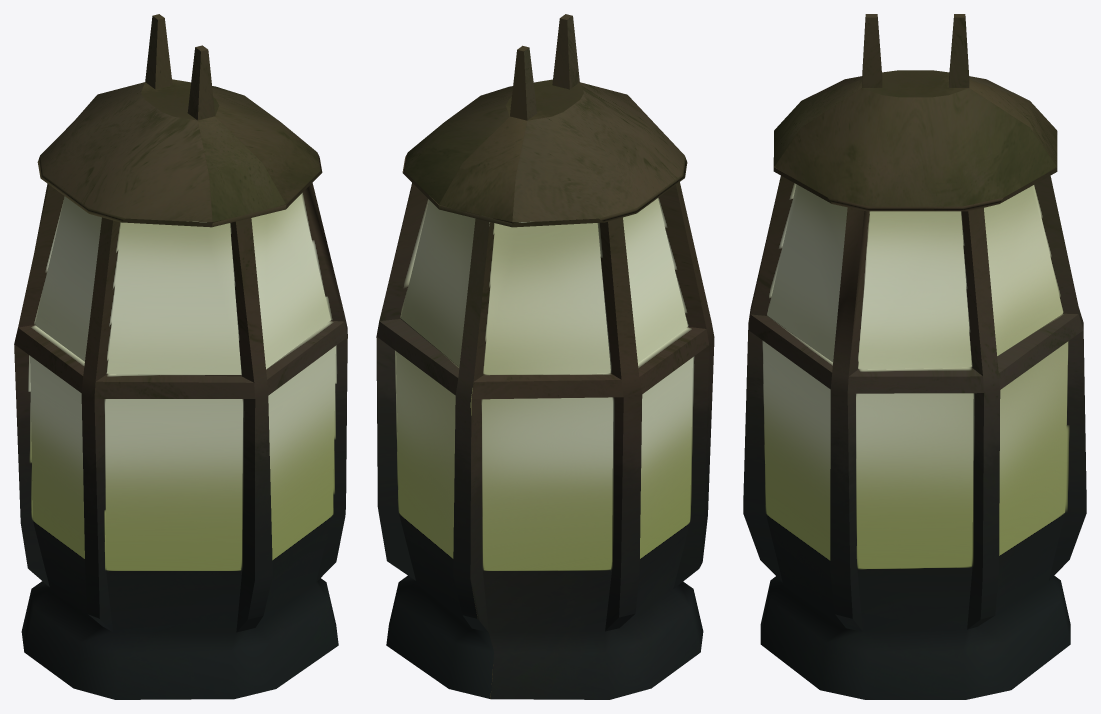
The model's file is ContainerMaya.fbx.
3 views of the same model, side by side, from view 1: azimuth 30°, elevation 25°; view 2: azimuth 150°, elevation 25°; view 3: azimuth 270°, elevation 25° (orthographic). The views are drawn at different scales.
Visible parts, largest first — view 1: pCylinder1; view 2: pCylinder1; view 3: pCylinder1.
Part boxes in pixels (bbox=[...]): pCylinder1: bbox=[14, 14, 347, 699]; pCylinder1: bbox=[376, 14, 714, 699]; pCylinder1: bbox=[743, 14, 1086, 699].
Bounding box in the file's own units: 0.8194 × 1.78 × 0.8973.
